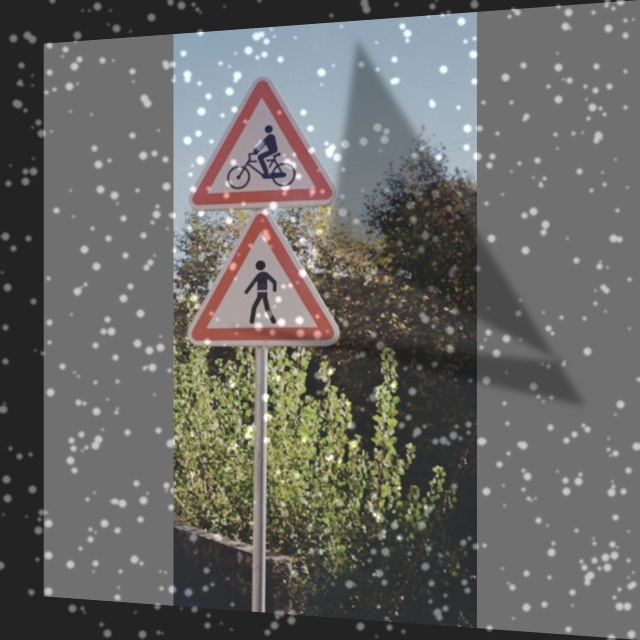Cycle_Crossing: (195, 71, 328, 210)
